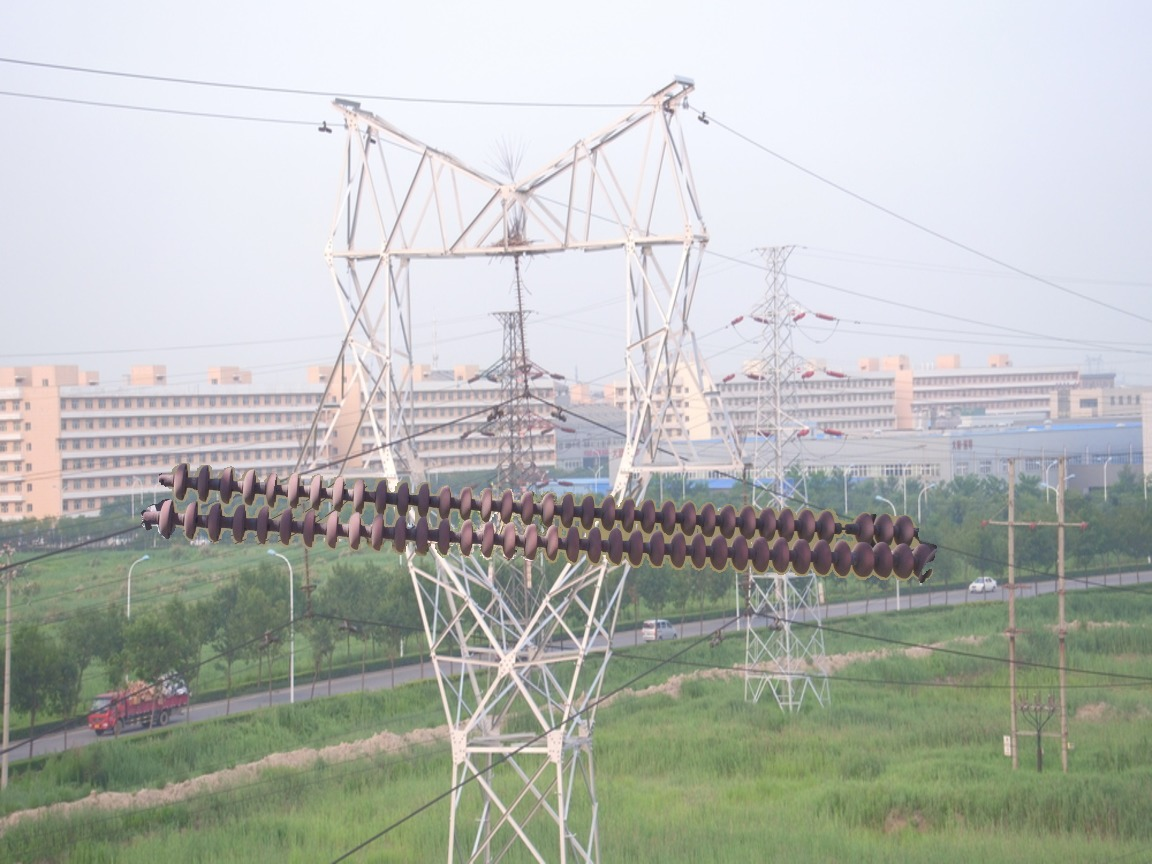defect: (815, 508, 880, 549)
